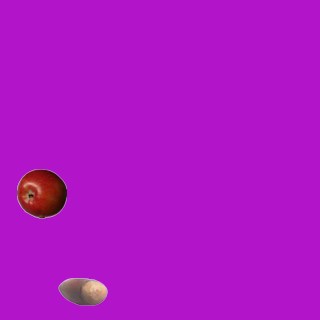Apple Braeburn: (16, 168, 66, 218)
Hazelnut: (57, 266, 107, 316)
